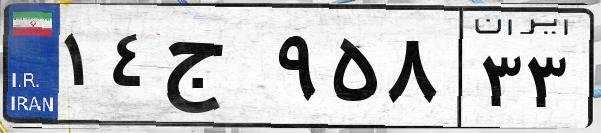1: (57, 26, 110, 100)
3: (475, 38, 525, 113), (525, 38, 570, 115)
4: (110, 28, 158, 98)
5: (330, 28, 385, 110)
8: (385, 28, 445, 110)
9: (270, 28, 330, 110)
ج: (158, 20, 270, 120)
